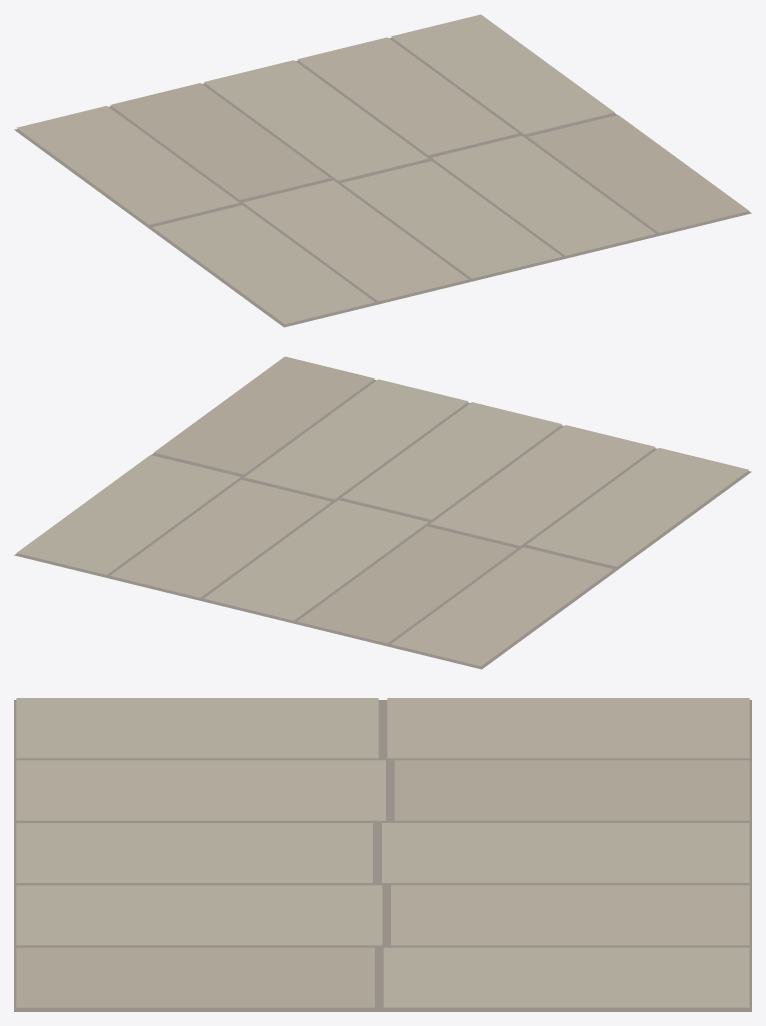
File: sidewalk.glb
The picture shows the model from 3 angles, top to bottom: view 1: azimuth 30°, elevation 25°; view 2: azimuth 150°, elevation 25°; view 3: azimuth 270°, elevation 25°; orthographic projection. The views are drawn at different scales.
Size of the model in its own units: 4 by 0.0179 by 4.
